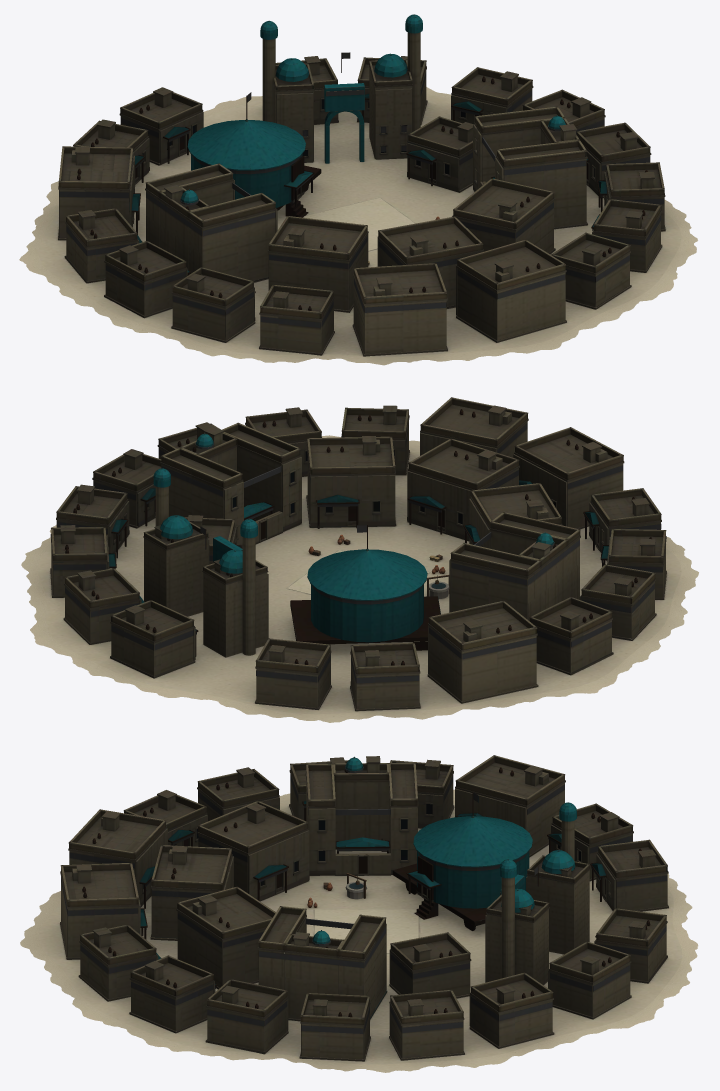
File: kingdoms-town-big-b-steppe.glb
3 views of the same model, one above another, from view 1: azimuth 30°, elevation 25°; view 2: azimuth 150°, elevation 25°; view 3: azimuth 270°, elevation 25° (orthographic).
Visible parts, largest first — view 1: LOD0; view 2: LOD0; view 3: LOD0.
Part boxes in pixels (x1,y1,x2,y2): LOD0: (19, 14, 697, 365); LOD0: (21, 397, 698, 722); LOD0: (20, 755, 698, 1072).
Size of what is drawn, in the model's own units: 7.92 by 1.72 by 7.98.
3 materials, 3 textured.
